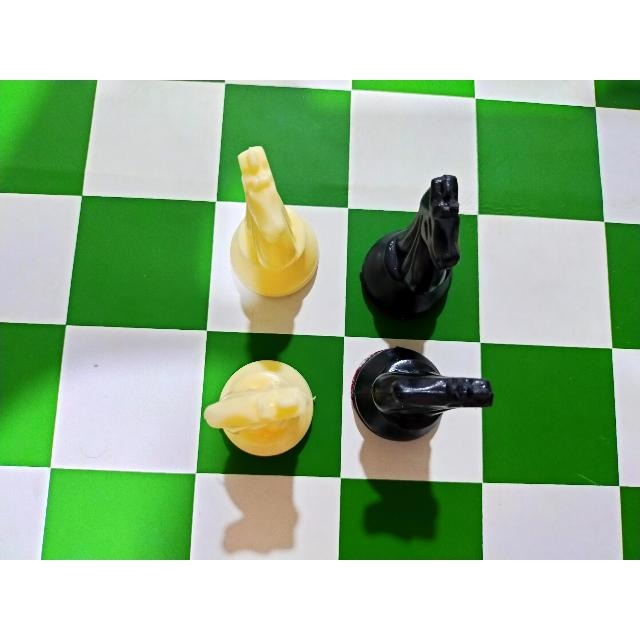black-knight: (356, 159, 500, 328), (344, 341, 505, 468)
white-knight: (215, 141, 332, 305), (198, 344, 326, 465)
